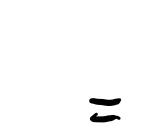eqv: (89, 98, 122, 122)
